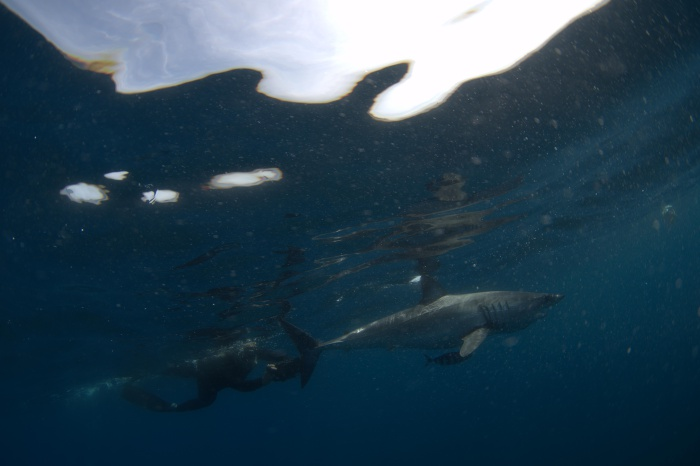Mako: (269, 265, 579, 398)
